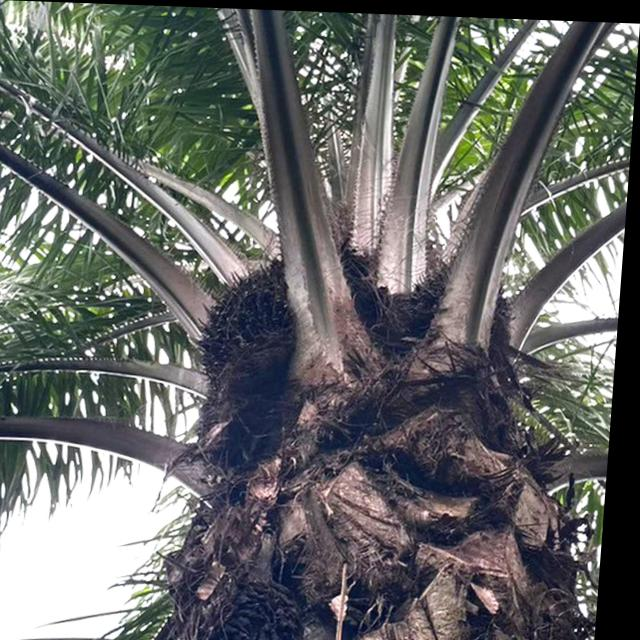unripe: (192, 257, 310, 392), (406, 236, 525, 339)
